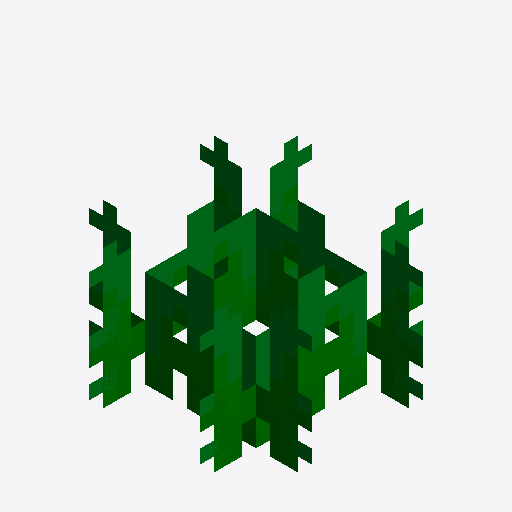
A Minecraft block model of 4 cuboids, rendered isometrically (azimuth 45°, elevation 35.3°) with the resource pack's own textures.
Parts seen in each view (by area): element 1, element 4, element 2, element 3.
Boxes of the visible parts, <box> form: element 1: <box>89,200,311,471</box>; element 4: <box>200,200,422,471</box>; element 2: <box>200,136,422,407</box>; element 3: <box>89,136,311,407</box>.
Size of the model in its own units: 16 by 16 by 16.